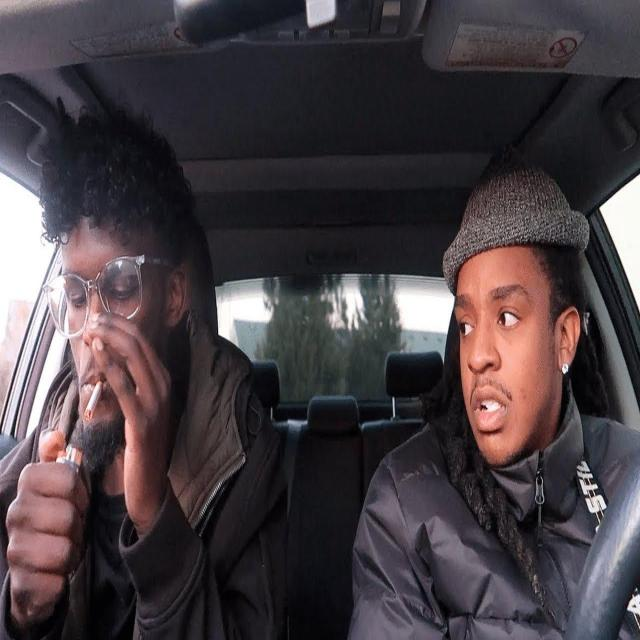cigarette: (75, 368, 111, 446)
